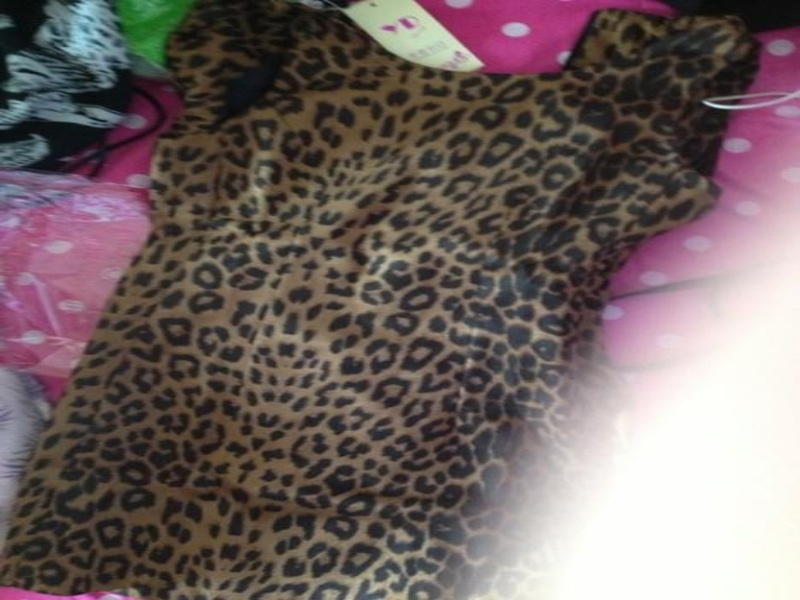vest_dress: (0, 2, 762, 599)
